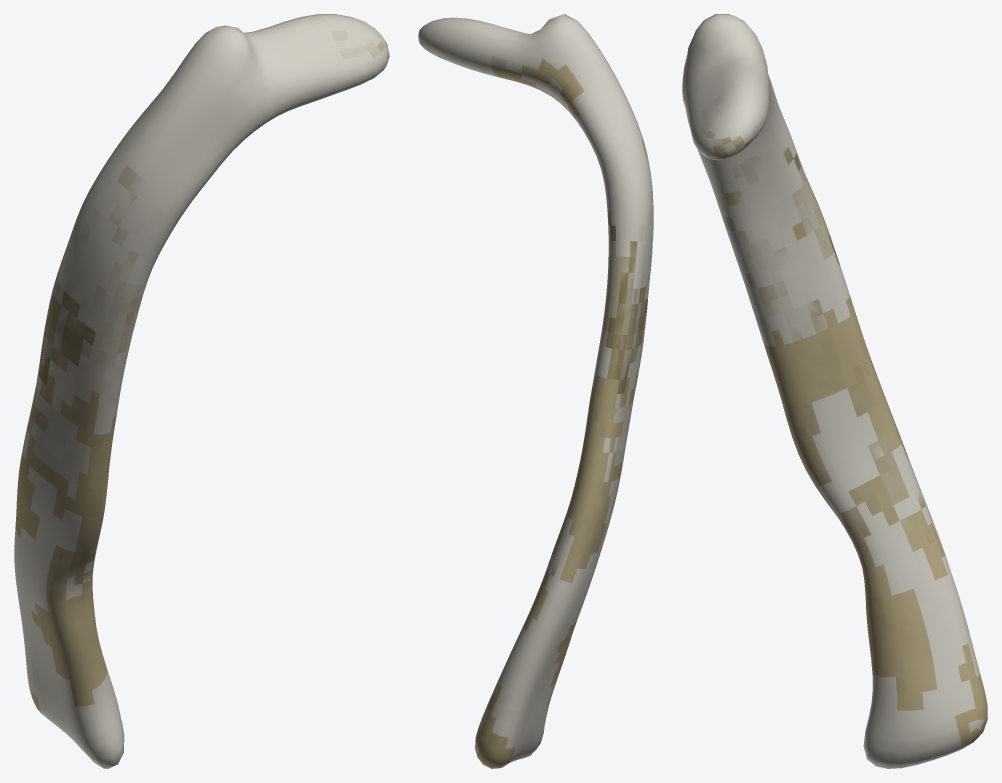
The model's file is Rib R01.fbx.
The picture shows the model from 3 angles, left to right: view 1: azimuth 30°, elevation 25°; view 2: azimuth 150°, elevation 25°; view 3: azimuth 270°, elevation 25°; orthographic projection. The views are drawn at different scales.
Visible parts, largest first — view 1: Rib R01; view 2: Rib R01; view 3: Rib R01.
Part boxes in pixels (bbox=[...]): Rib R01: bbox=[14, 14, 389, 768]; Rib R01: bbox=[418, 14, 653, 768]; Rib R01: bbox=[682, 14, 987, 768].
Bounding box in the file's own units: 5.57 × 14.51 × 5.22.
